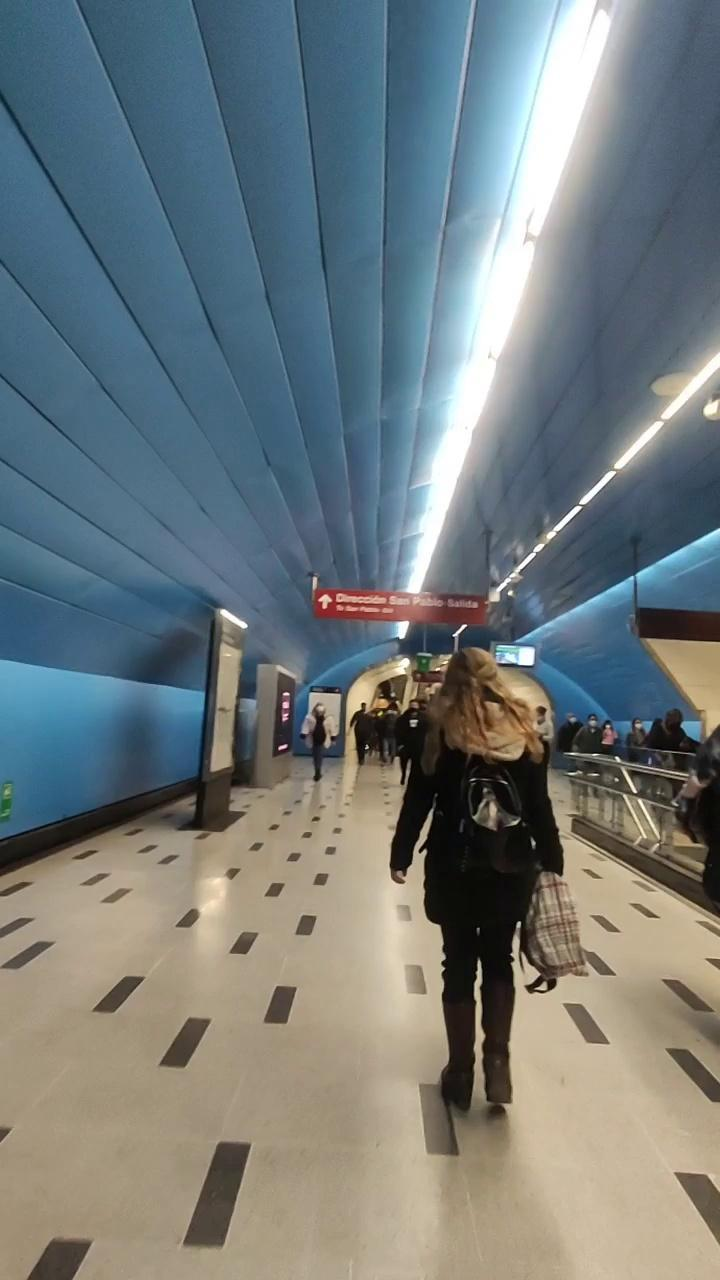up arrow: (314, 592, 342, 614)
